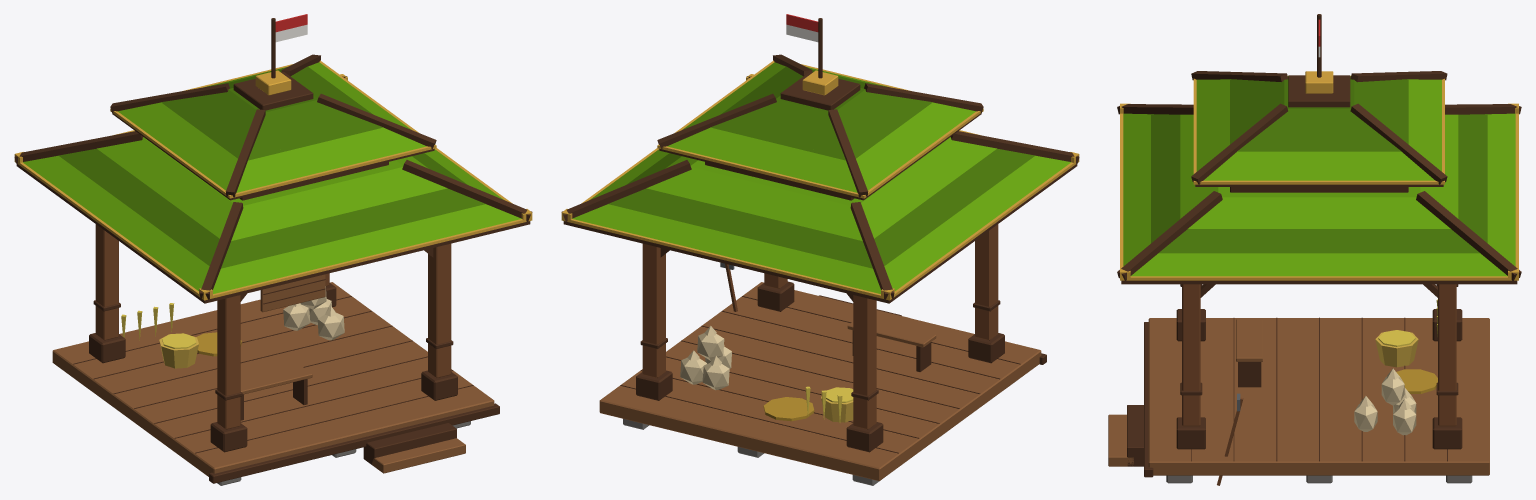
Rendered from rumah_ladang_v001.glb.
3 renders of one model, left to right at view 1: azimuth 30°, elevation 25°; view 2: azimuth 150°, elevation 25°; view 3: azimuth 270°, elevation 25°, orthographic. The views are drawn at different scales.
Visible parts, largest first — view 1: Rumah_Ladang, Papan_Nama; view 2: Rumah_Ladang; view 3: Rumah_Ladang.
Boxes of the visible parts, box(x1,y1,x2,y2) form: Rumah_Ladang: box(14, 14, 532, 485); Papan_Nama: box(260, 274, 325, 312); Rumah_Ladang: box(561, 14, 1079, 485); Rumah_Ladang: box(1108, 14, 1521, 485).
Bounding box in the file's own units: 5.21 × 5.75 × 5.33.
